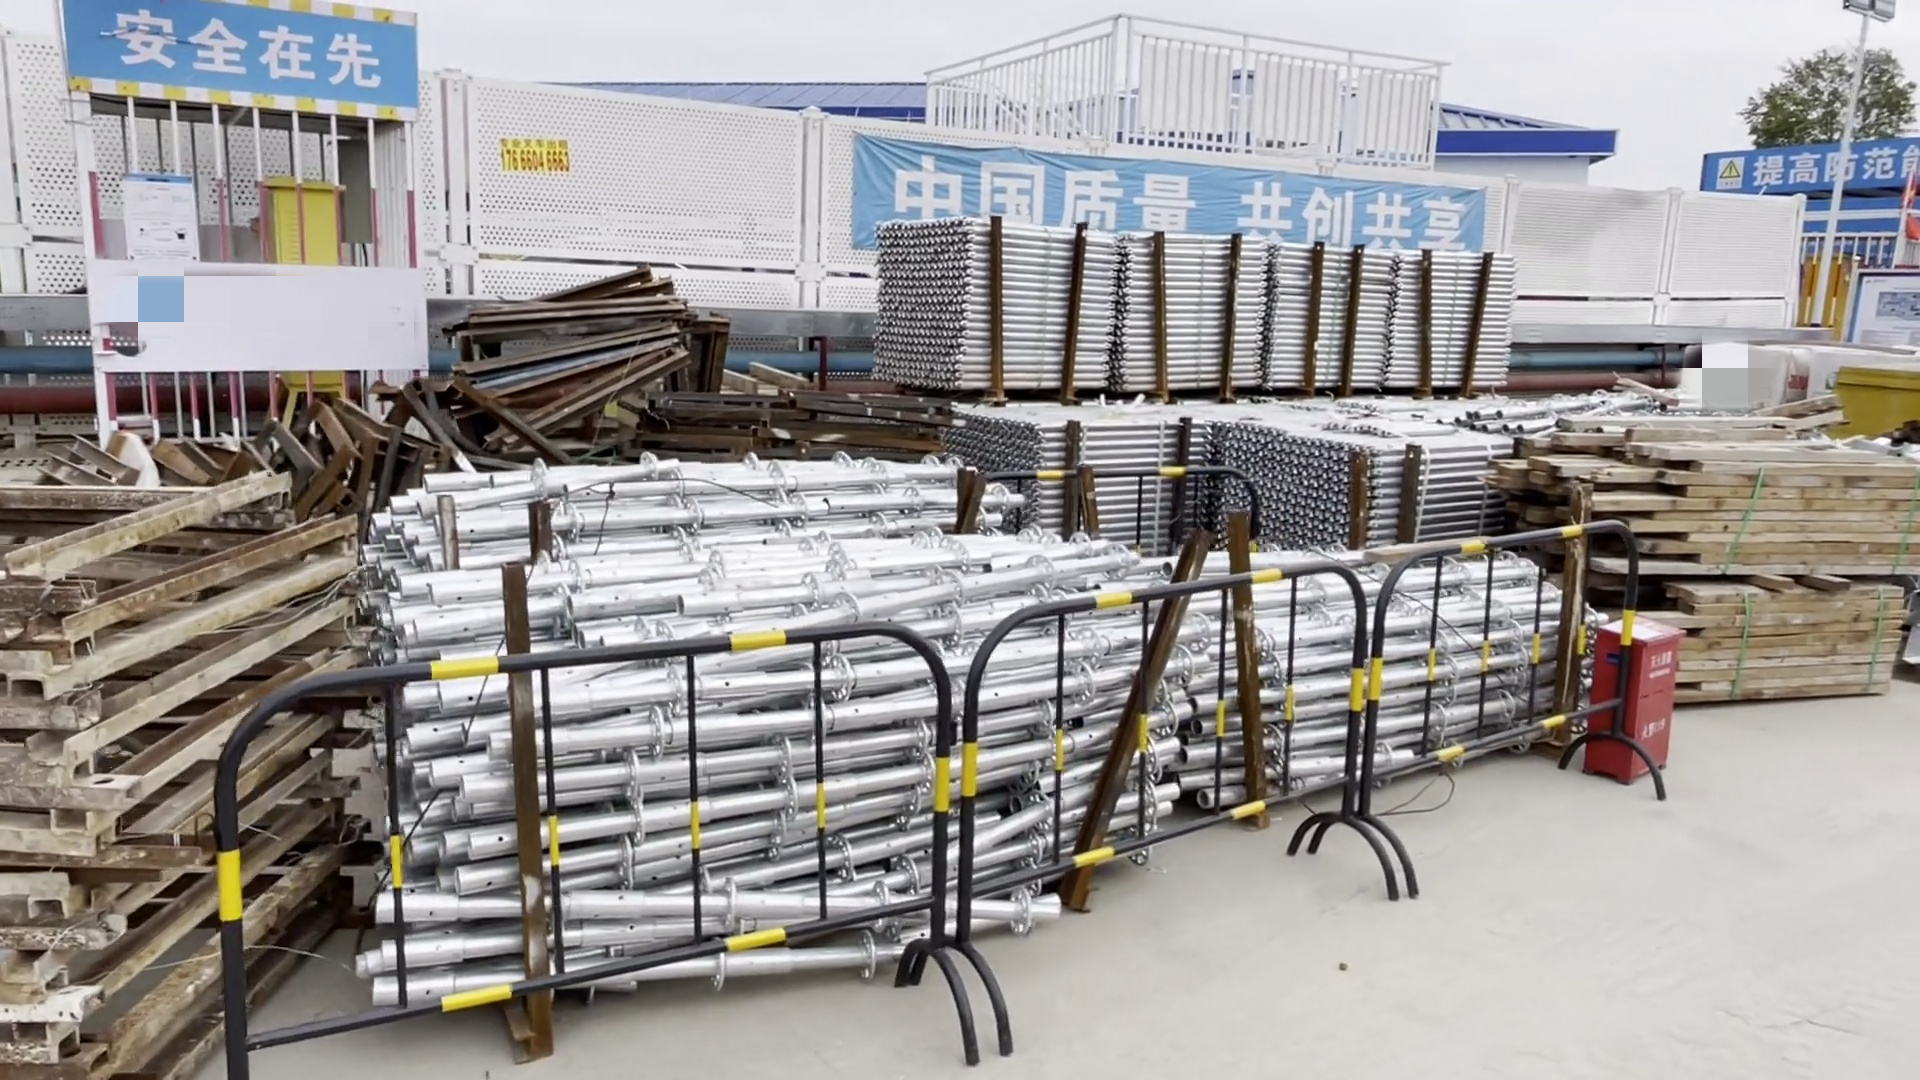scaffold: (369, 468, 1571, 978), (869, 214, 1543, 601)
slogan: (849, 146, 1491, 277), (54, 7, 440, 99), (1695, 142, 1920, 194)
wood: (1575, 422, 1920, 735)
